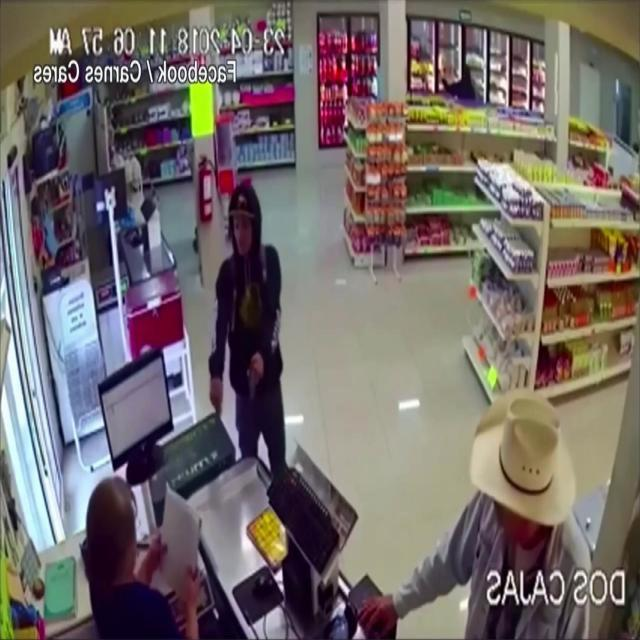weapon: (246, 368, 260, 401)
